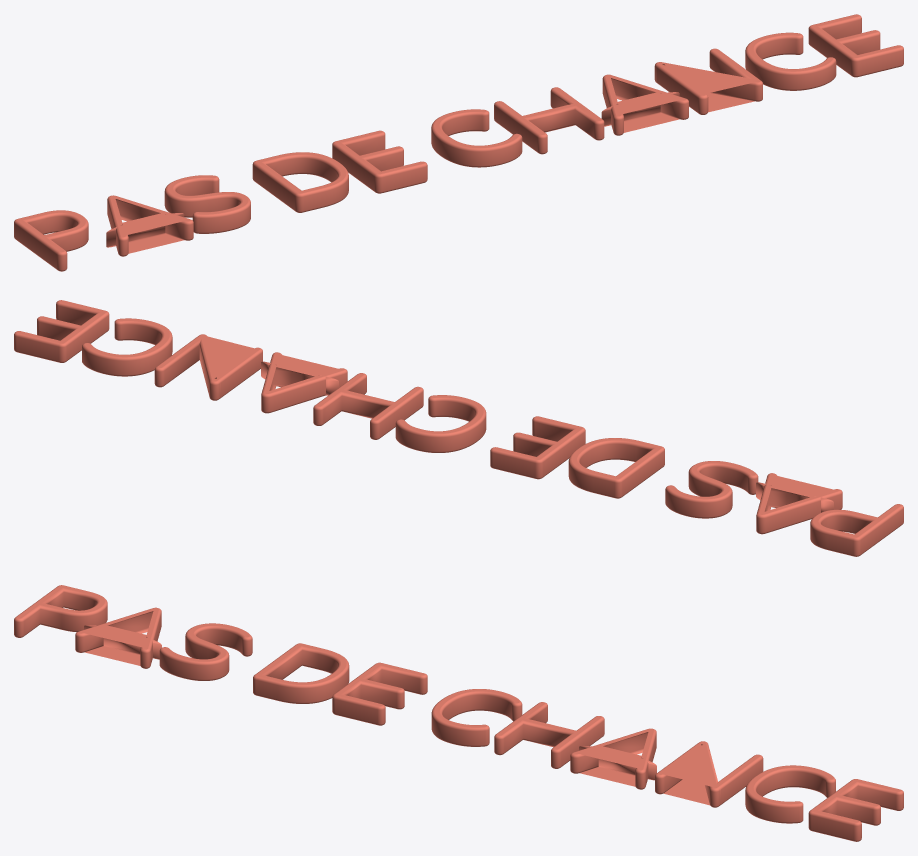
File: title_lose.fbx
3 renders of one model, top to bottom at view 1: azimuth 30°, elevation 25°; view 2: azimuth 150°, elevation 25°; view 3: azimuth 330°, elevation 25°, orthographic.
Visible parts, largest first — view 1: Extruded clay lettering.001; view 2: Extruded clay lettering.001; view 3: Extruded clay lettering.001.
Part boxes in pixels (left/top/right/bottom): Extruded clay lettering.001: left=14, top=14, right=903, bottom=271; Extruded clay lettering.001: left=14, top=300, right=903, bottom=556; Extruded clay lettering.001: left=14, top=585, right=903, bottom=841.
Bounding box in the file's own units: 8.81 × 0.19 × 0.8724.
